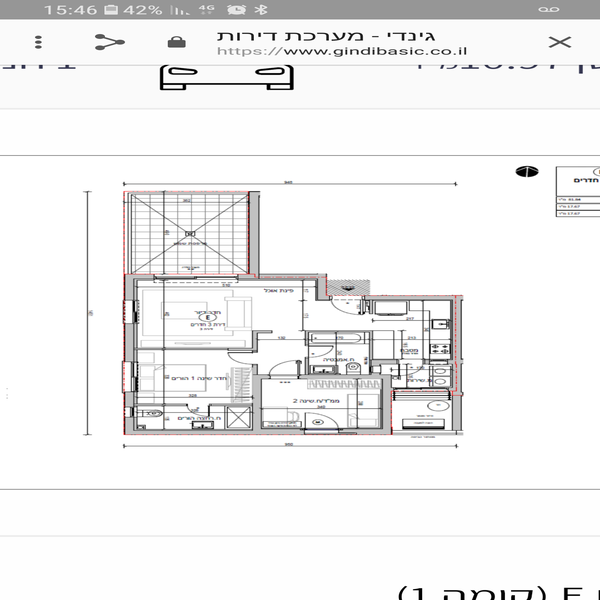door: (328, 290, 369, 321), (266, 353, 305, 381), (223, 346, 257, 372), (306, 341, 334, 365)
room: (121, 264, 267, 440), (367, 291, 460, 442), (267, 267, 377, 369), (249, 367, 394, 434)
wall: (449, 296, 468, 432), (241, 191, 265, 278), (248, 369, 272, 434), (304, 372, 393, 389), (372, 295, 465, 305), (120, 324, 140, 364), (382, 376, 396, 432), (252, 271, 329, 280), (250, 425, 307, 437), (125, 392, 139, 438), (123, 269, 139, 305), (343, 425, 383, 439), (122, 301, 142, 322)
window: (149, 264, 237, 287), (123, 362, 142, 391), (124, 303, 145, 321)
